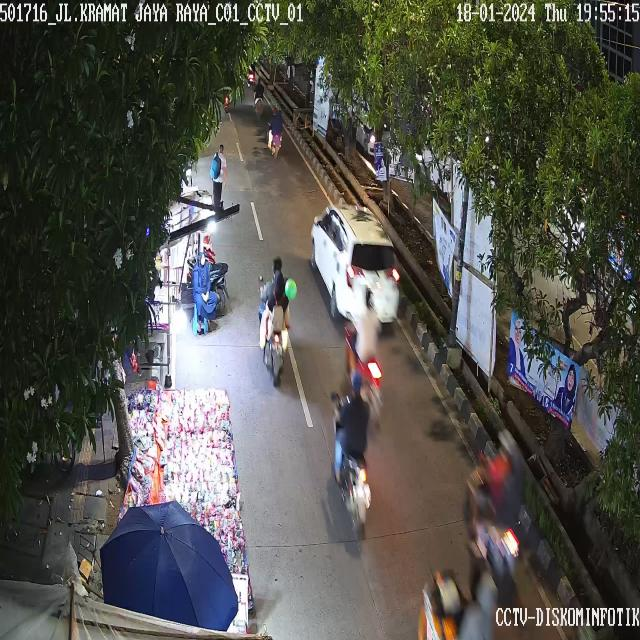Emperan: (114, 356, 256, 586)
Payung: (89, 499, 242, 627)
